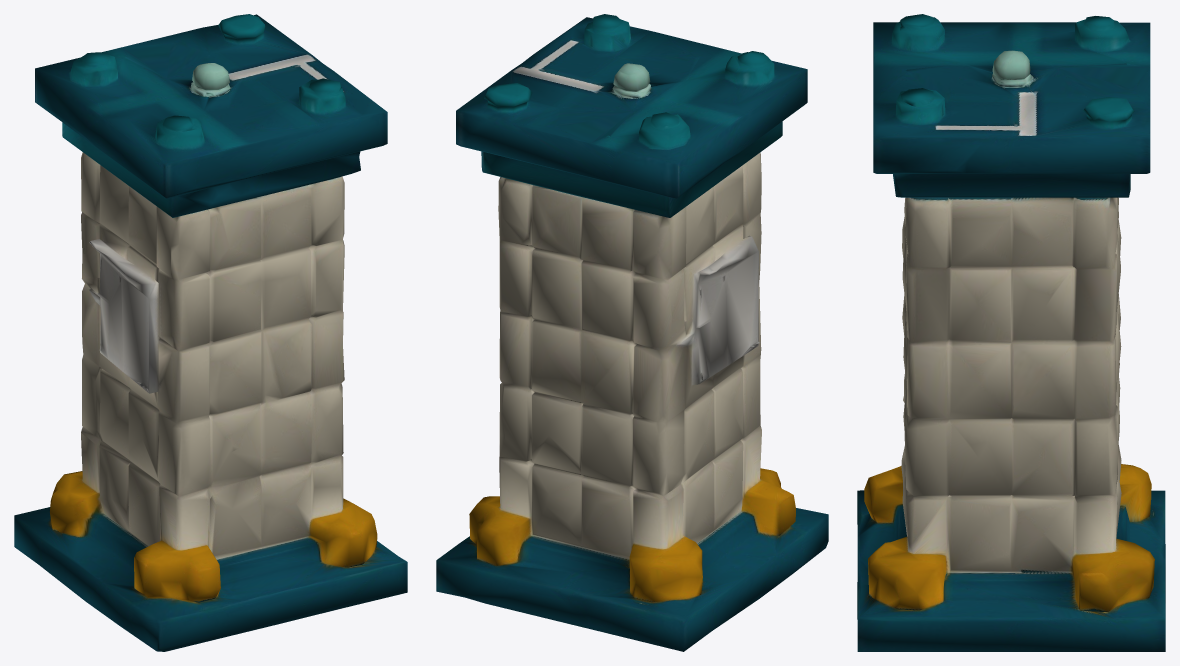
The model's file is mall_pillar_3000.glb.
The picture shows the model from 3 angles, left to right: view 1: azimuth 30°, elevation 25°; view 2: azimuth 150°, elevation 25°; view 3: azimuth 270°, elevation 25°; orthographic projection. The views are drawn at different scales.
Parts seen in each view (by area): view 1: tripo_node_01ddbba4-efaf-4fb4-81ee-c199dc0efa70; view 2: tripo_node_01ddbba4-efaf-4fb4-81ee-c199dc0efa70; view 3: tripo_node_01ddbba4-efaf-4fb4-81ee-c199dc0efa70.
Boxes of the visible parts, bbox=[...] form: tripo_node_01ddbba4-efaf-4fb4-81ee-c199dc0efa70: bbox=[14, 14, 407, 651]; tripo_node_01ddbba4-efaf-4fb4-81ee-c199dc0efa70: bbox=[436, 14, 828, 651]; tripo_node_01ddbba4-efaf-4fb4-81ee-c199dc0efa70: bbox=[857, 14, 1165, 651].
Bounding box in the file's own units: 0.5057 × 0.9785 × 0.5084.
1 material, 1 textured.
